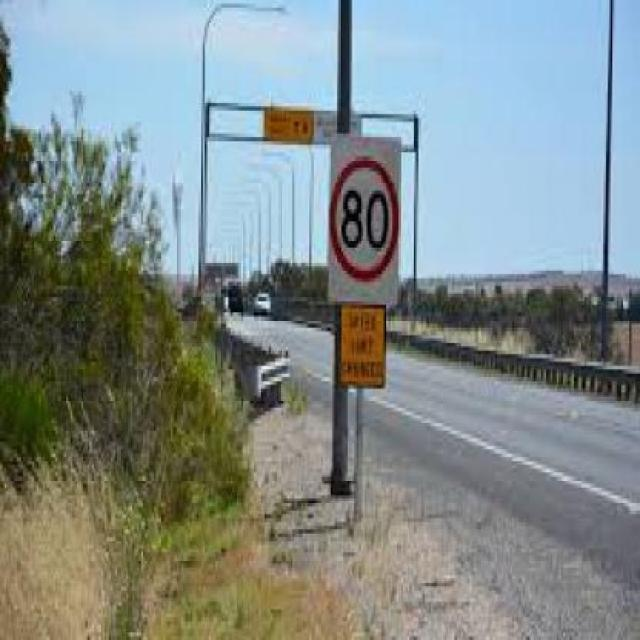forb_speed_over_80: (333, 156, 401, 282)
